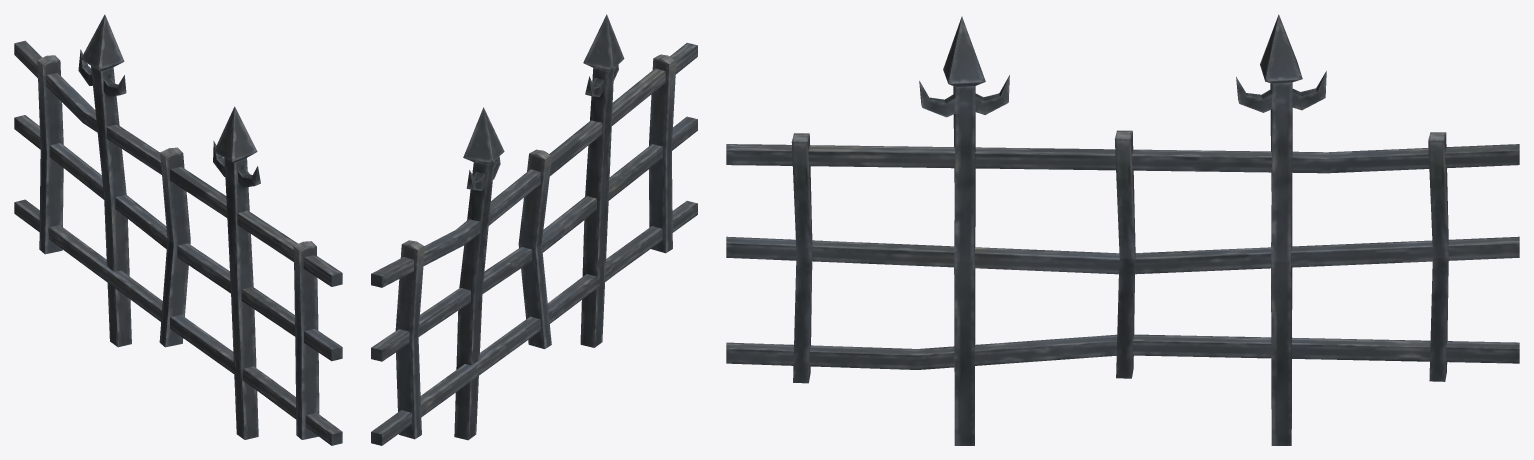
File: Fence_002.obj
3 renders of one model, left to right at view 1: azimuth 30°, elevation 25°; view 2: azimuth 150°, elevation 25°; view 3: azimuth 270°, elevation 25°, orthographic. The views are drawn at different scales.
Parts seen in each view (by area): view 1: Fence_002; view 2: Fence_002; view 3: Fence_002.
Part boxes in pixels (x1,y1,x2,y2): Fence_002: (14,14,342,445); Fence_002: (371,14,697,445); Fence_002: (726,14,1519,445).
Bounding box in the file's own units: 0.7445 × 5.8 × 10.
